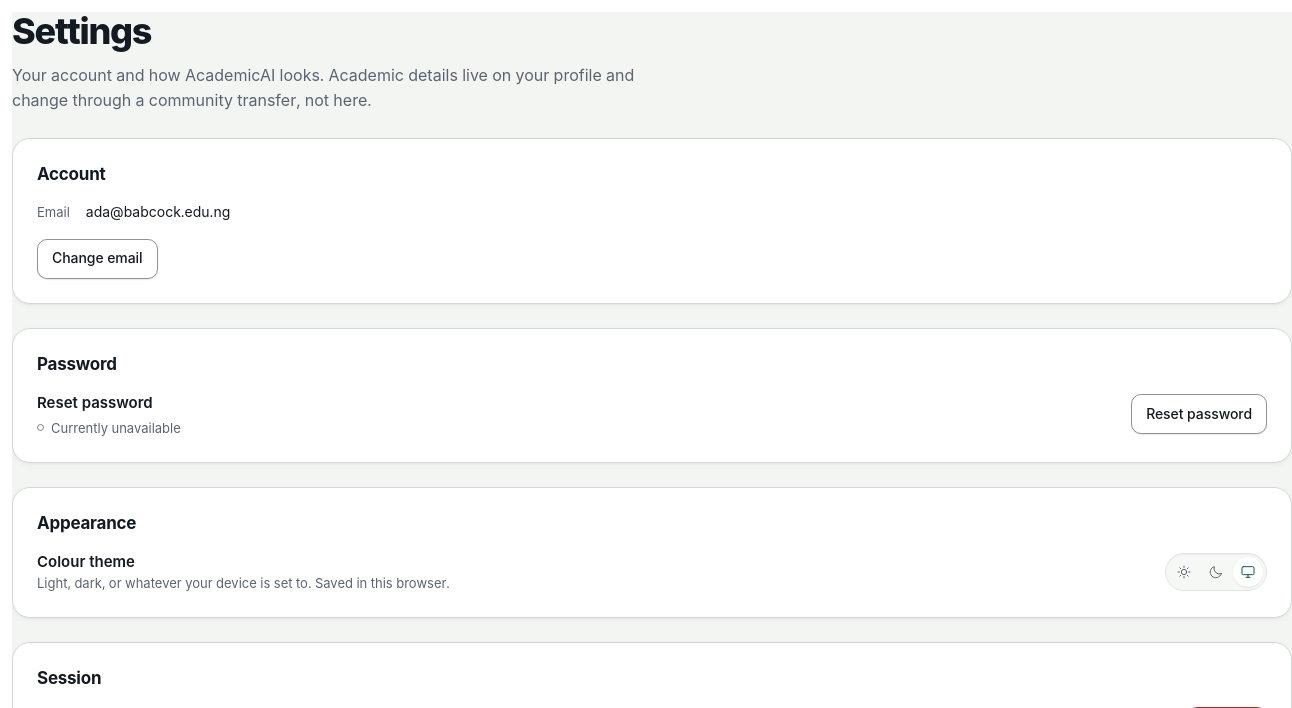
settings › states the consequences before the email can be changed (J·3)
Click the button "Change email" at point(97, 259), box 37,239 -> 158,279
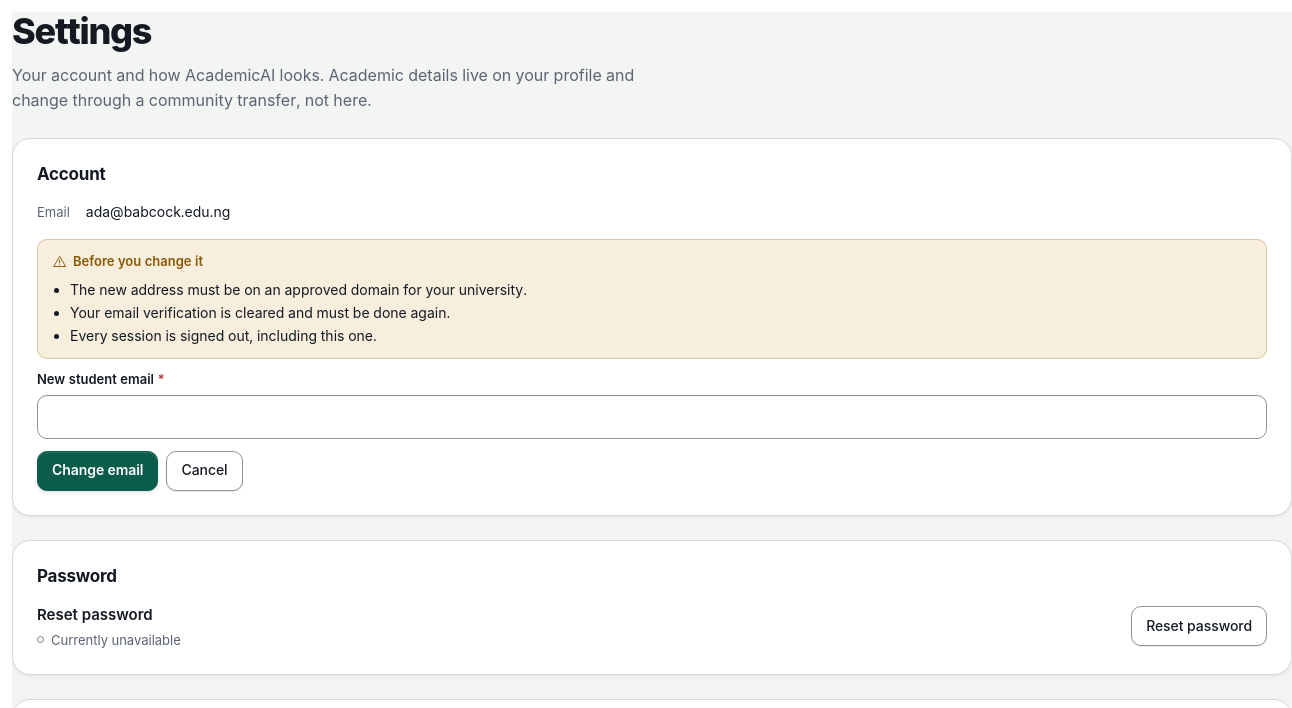
Now the list item "Your email verification is cleared and must be done again." is shown, box 70,304 -> 450,321
Now the list item "Every session is signed out, including this one." is shown, box 70,327 -> 377,344
